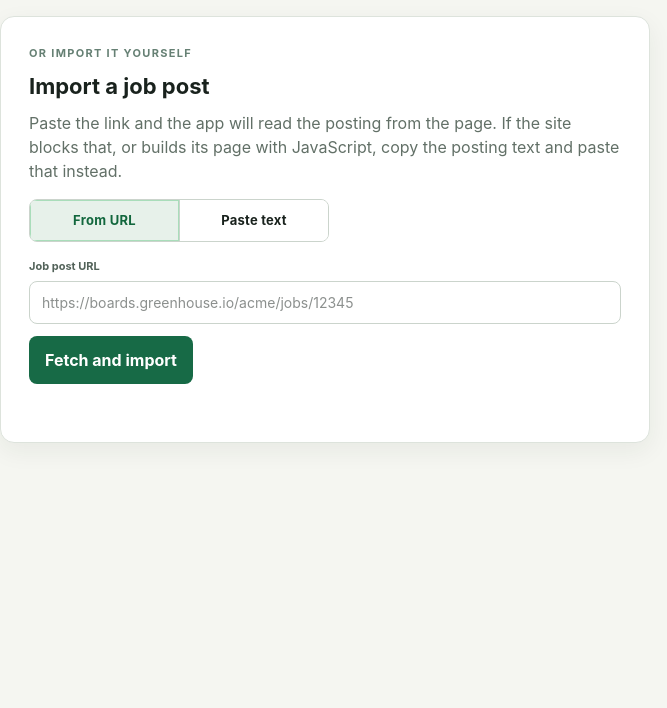
Test: manual job import › switches between the url and paste modes
Expected: the field labelled "Job post text" is not shown
Expected: the button "Fetch and import" is shown, [29, 336, 193, 384]
Click the button "Paste text".
click(254, 220)  # box [179, 200, 328, 241]
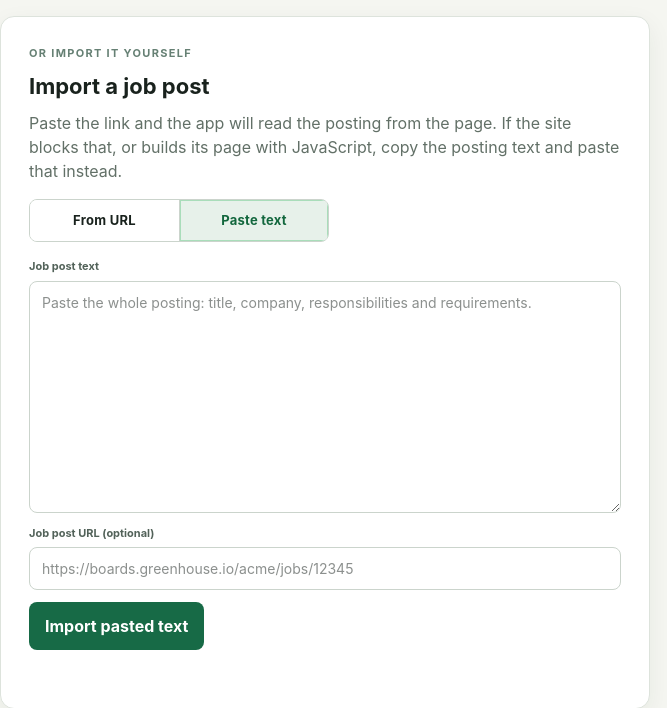
Expected: the field labelled "Job post URL (optional)" is shown, [29, 547, 621, 590]
Expected: the text box labelled "Job post text" is shown, [29, 280, 621, 512]
Expected: the button "Import pasted text" is shown, [29, 602, 204, 650]
